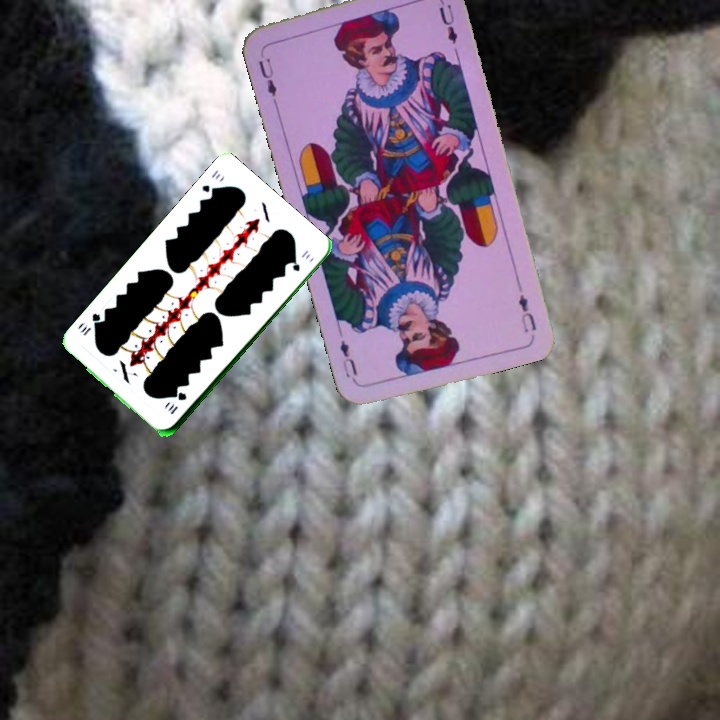EU: (254, 48, 280, 99), (514, 290, 539, 336)
G10: (198, 166, 223, 198), (164, 389, 189, 417)
